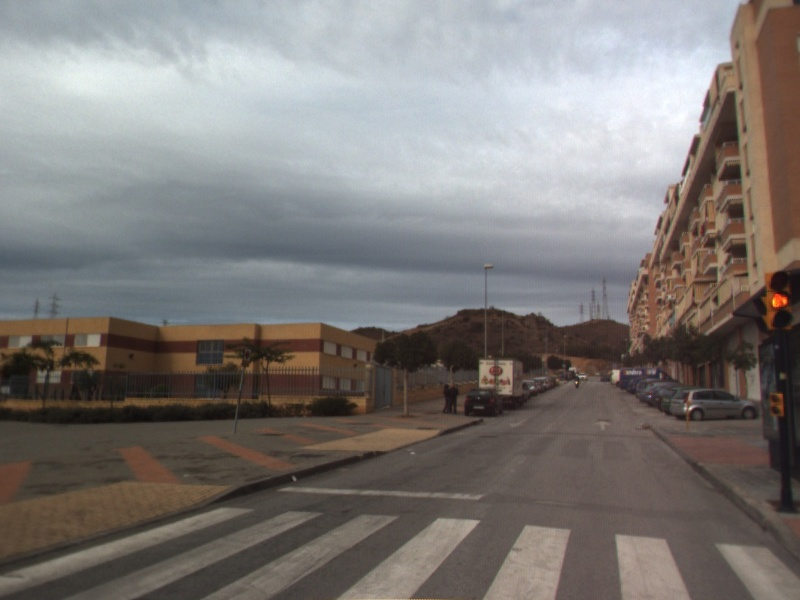STRAIGHT: (592, 418, 614, 432)
